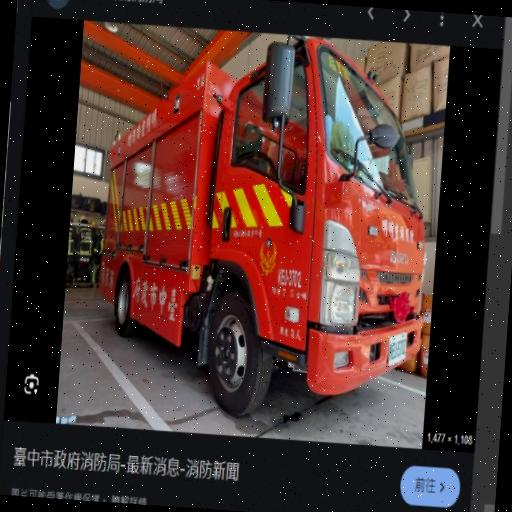fire truck: (74, 10, 444, 420)
